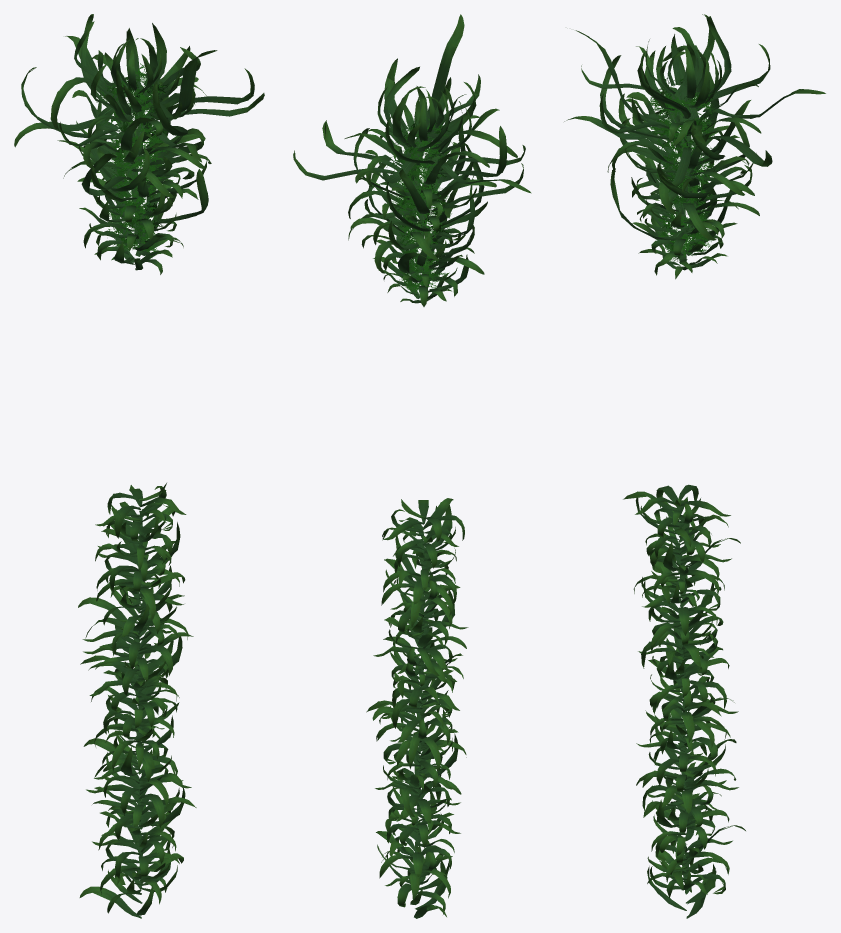
File: leaf_mid1 (merge).fbx
3 views of the same model, side by side, from view 1: azimuth 30°, elevation 25°; view 2: azimuth 150°, elevation 25°; view 3: azimuth 270°, elevation 25° (orthographic). The views are drawn at different scales.
Parts seen in each view (by area): view 1: Coral_reef_kelp_dense_03_head (×3), Coral_reef_kelp_dense_03_leafs_mid2 (×3), Coral_reef_kelp_dense_03_leafs_mid1 (×3); view 2: Coral_reef_kelp_dense_03_head (×3), Coral_reef_kelp_dense_03_leafs_mid2 (×3), Coral_reef_kelp_dense_03_leafs_mid1 (×3); view 3: Coral_reef_kelp_dense_03_head (×3), Coral_reef_kelp_dense_03_leafs_mid2 (×3), Coral_reef_kelp_dense_03_leafs_mid1 (×3).
Part boxes in pixels (box(x1,y1,x2,y2)): Coral_reef_kelp_dense_03_head (×3): box(14, 14, 264, 274); Coral_reef_kelp_dense_03_leafs_mid2 (×3): box(78, 483, 193, 712); Coral_reef_kelp_dense_03_leafs_mid1 (×3): box(79, 668, 196, 918); Coral_reef_kelp_dense_03_head (×3): box(293, 14, 531, 306); Coral_reef_kelp_dense_03_leafs_mid2 (×3): box(373, 498, 468, 728); Coral_reef_kelp_dense_03_leafs_mid1 (×3): box(366, 692, 466, 918); Coral_reef_kelp_dense_03_head (×3): box(564, 14, 825, 279); Coral_reef_kelp_dense_03_leafs_mid2 (×3): box(623, 484, 740, 709); Coral_reef_kelp_dense_03_leafs_mid1 (×3): box(636, 691, 745, 918).
Size of the model in its own units: 7.59 by 28.08 by 7.54.
